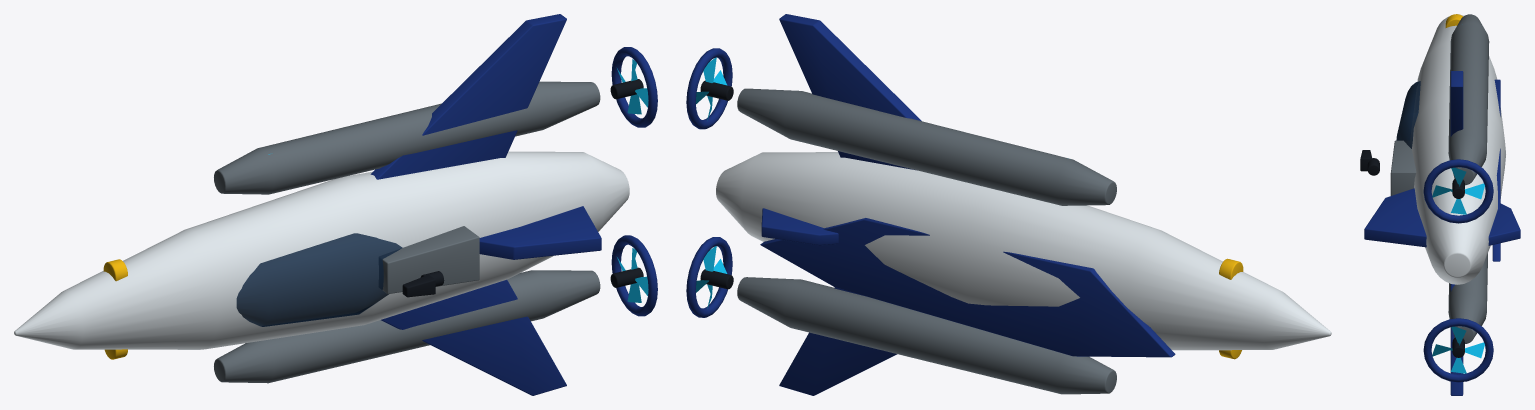
Rendered from arwing2_submarino.obj.
3 views of the same model, side by side, from view 1: azimuth 30°, elevation 25°; view 2: azimuth 150°, elevation 25°; view 3: azimuth 270°, elevation 25° (orthographic). The views are drawn at different scales.
Visible parts, largest first — view 1: casco_principal, flotador_izquierdo, flotador_derecho, cabina_submarina, aleta_buceo_izquierda, aleta_buceo_derecha, torre_mando, timón_superior, aro_helice_izquierdo, aro_helice_derecho, cabeza_periscopio; view 2: casco_principal, blindaje_inferior, flotador_izquierdo, flotador_derecho, aleta_buceo_izquierda, aleta_buceo_derecha, timón_inferior, aro_helice_izquierdo, aro_helice_derecho; view 3: casco_principal, flotador_izquierdo, timón_superior, flotador_derecho, aro_helice_izquierdo, aro_helice_derecho, torre_mando, cabina_submarina, timón_inferior, aleta_buceo_izquierda, blindaje_inferior, aleta_buceo_derecha (+11 smaller).
Boxes of the visible parts, x1,y1,x2,y2 form: casco_principal: [14, 151, 629, 349]; flotador_izquierdo: [214, 81, 600, 194]; flotador_derecho: [214, 270, 600, 383]; cabina_submarina: [236, 233, 402, 326]; aleta_buceo_izquierda: [370, 14, 566, 179]; aleta_buceo_derecha: [381, 279, 566, 395]; torre_mando: [379, 226, 479, 293]; timón_superior: [479, 206, 601, 259]; aro_helice_izquierdo: [611, 47, 657, 127]; aro_helice_derecho: [611, 235, 657, 316]; cabeza_periscopio: [402, 274, 435, 297]; casco_principal: [716, 152, 1331, 350]; blindaje_inferior: [760, 218, 1175, 357]; flotador_izquierdo: [737, 88, 1116, 205]; flotador_derecho: [737, 277, 1116, 394]; aleta_buceo_izquierda: [779, 14, 921, 170]; aleta_buceo_derecha: [779, 287, 897, 395]; timón_inferior: [761, 208, 838, 245]; aro_helice_izquierdo: [686, 48, 732, 129]; aro_helice_derecho: [686, 237, 732, 317]; casco_principal: [1410, 14, 1505, 284]; flotador_izquierdo: [1448, 14, 1489, 185]; timón_superior: [1364, 188, 1426, 247]; flotador_derecho: [1448, 253, 1487, 343]; aro_helice_izquierdo: [1423, 159, 1493, 223]; aro_helice_derecho: [1423, 318, 1493, 382]; torre_mando: [1390, 140, 1416, 195]; cabina_submarina: [1396, 81, 1420, 148]; timón_inferior: [1488, 203, 1520, 245]; aleta_buceo_izquierda: [1450, 71, 1463, 136]; blindaje_inferior: [1492, 79, 1500, 261]; aleta_buceo_derecha: [1450, 284, 1463, 395].
Bounding box in the file's own units: 10.78 × 6.1 × 2.84.
